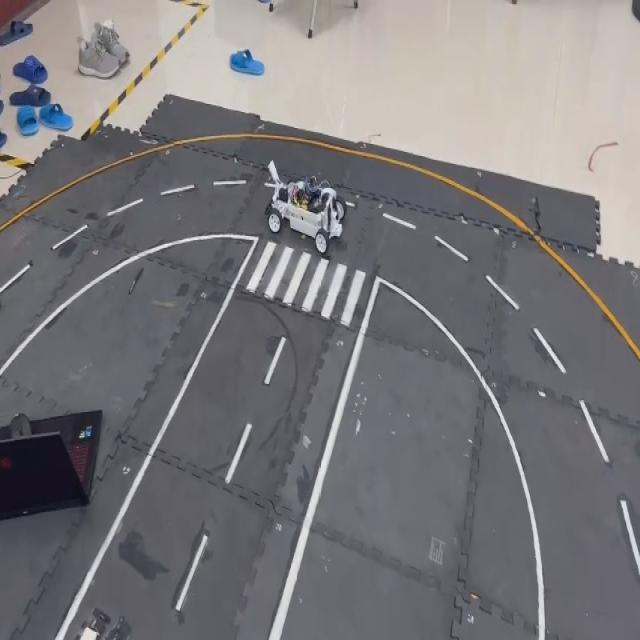SiCo-CAR: (263, 159, 345, 256)
